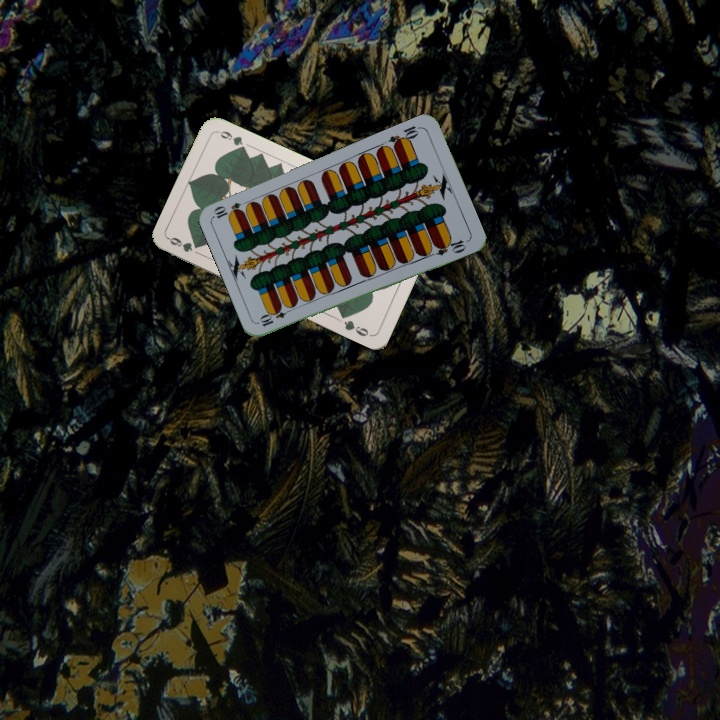E10: (385, 122, 423, 150), (256, 303, 295, 329)
G9: (165, 233, 195, 255)
